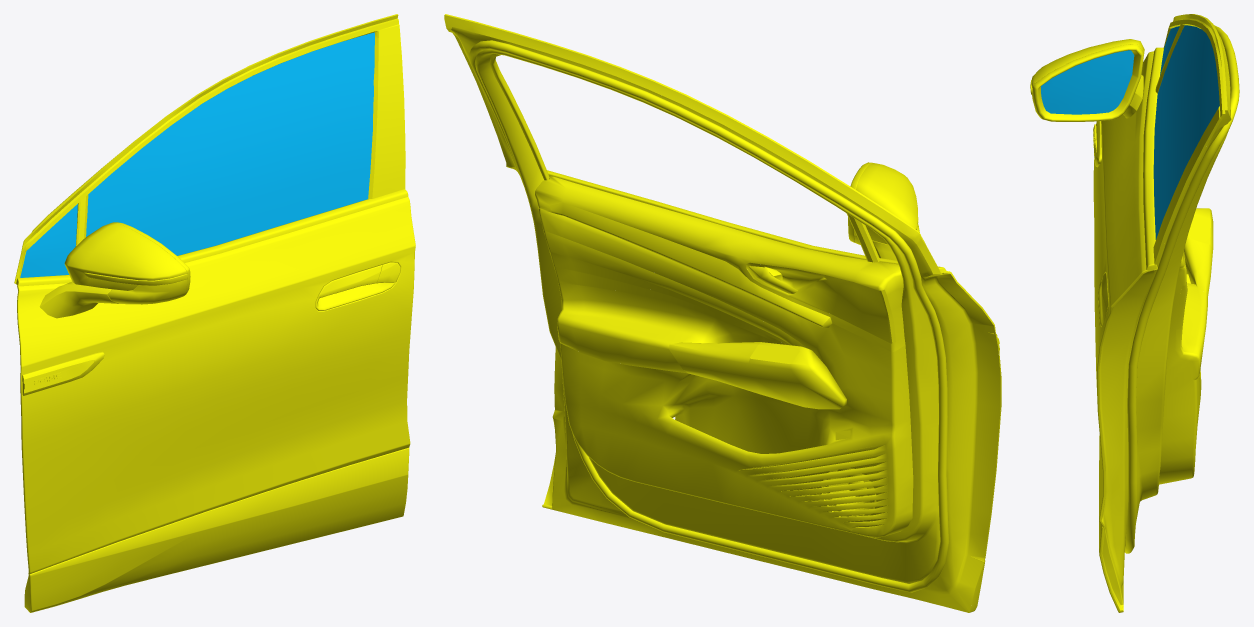
File: Men_ZuoQian.glb
The picture shows the model from 3 angles, left to right: view 1: azimuth 30°, elevation 25°; view 2: azimuth 150°, elevation 25°; view 3: azimuth 270°, elevation 25°; orthographic projection. The views are drawn at different scales.
Parts seen in each view (by area): view 1: 对象040, Material__292, 对象041, 对象045, Material #1212, 对象027, 对象033, 对象020, 对象087, 对象098; view 2: WaiKe6, WaiKe15, 对象079, Material #1212, WaiKe7, 对象045, 对象078, 对象033, 贴图5; view 3: WaiKe15, 对象040, Material__292, WaiKe7, WaiKe6, 对象082, 对象045, Material #1212, 对象033, 对象107, 对象079, 对象027 (+3 smaller).
Part boxes in pixels (left/top/right/bottom): 对象040: left=17, top=197, right=415, bottom=574; Material__292: left=20, top=32, right=374, bottom=277; 对象041: left=24, top=447, right=409, bottom=612; 对象045: left=14, top=14, right=398, bottom=318; Material #1212: left=22, top=222, right=186, bottom=395; 对象027: left=368, top=24, right=405, bottom=198; 对象033: left=16, top=189, right=408, bottom=286; 对象020: left=317, top=262, right=400, bottom=298; 对象087: left=22, top=360, right=94, bottom=393; 对象098: left=84, top=272, right=187, bottom=285; WaiKe6: left=535, top=176, right=913, bottom=537; WaiKe15: left=451, top=27, right=1000, bottom=612; 对象079: left=543, top=230, right=806, bottom=373; Material #1212: left=669, top=163, right=999, bottom=409; WaiKe7: left=469, top=40, right=949, bottom=592; 对象045: left=444, top=14, right=942, bottom=277; 对象078: left=550, top=202, right=832, bottom=327; 对象033: left=506, top=163, right=946, bottom=273; 贴图5: left=750, top=344, right=850, bottom=440; WaiKe15: left=1099, top=61, right=1230, bottom=611; 对象040: left=1093, top=51, right=1157, bottom=527; Material__292: left=1153, top=25, right=1219, bottom=239; WaiKe7: left=1125, top=25, right=1239, bottom=553; WaiKe6: left=1159, top=252, right=1201, bottom=484; 对象082: left=1041, top=50, right=1134, bottom=114; 对象045: left=1032, top=14, right=1231, bottom=267; Material #1212: left=1031, top=39, right=1213, bottom=296; 对象033: left=1143, top=47, right=1163, bottom=269; 对象107: left=1032, top=44, right=1143, bottom=121; 对象079: left=1175, top=283, right=1207, bottom=379; 对象027: left=1153, top=106, right=1222, bottom=264.
Bounding box in the file's own units: 1.25 × 1.27 × 0.4537.
Materials: 4 (3 with a texture image).
